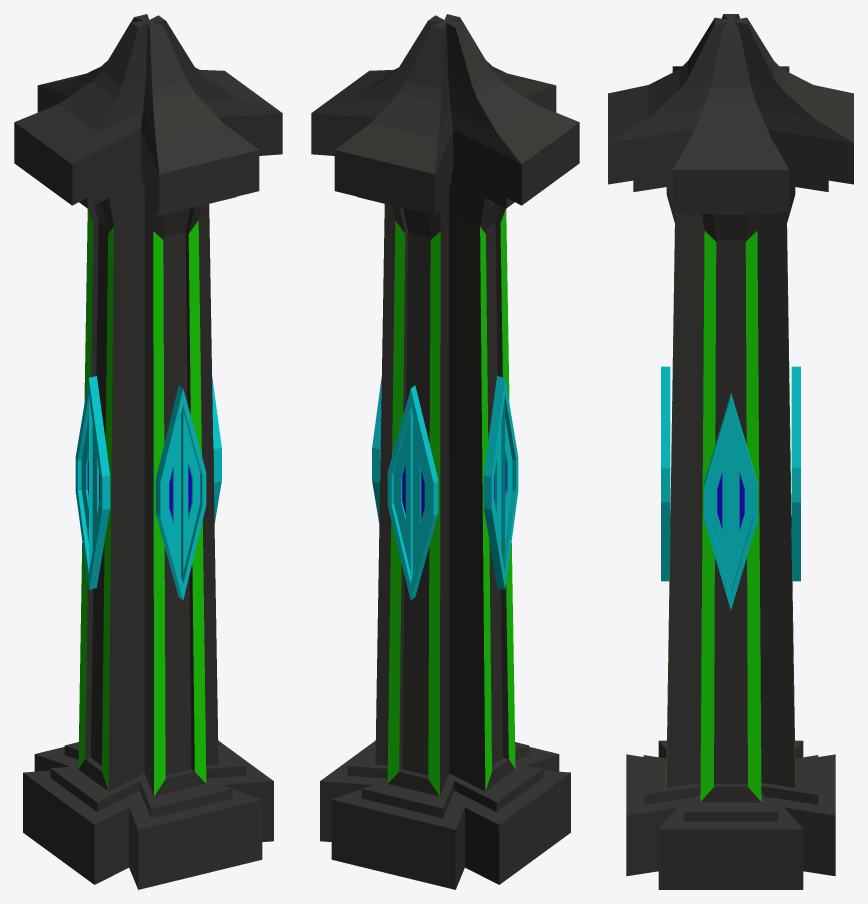
Rendered from DarkPillar.fbx.
The picture shows the model from 3 angles, left to right: view 1: azimuth 30°, elevation 25°; view 2: azimuth 150°, elevation 25°; view 3: azimuth 270°, elevation 25°; orthographic projection.
Visible parts, largest first — view 1: Cube; view 2: Cube; view 3: Cube.
Boxes of the visible parts, bbox=[...] form: Cube: bbox=[14, 14, 282, 889]; Cube: bbox=[311, 14, 579, 889]; Cube: bbox=[608, 14, 853, 889].
Bounding box in the file's own units: 283 × 1046 × 283.
